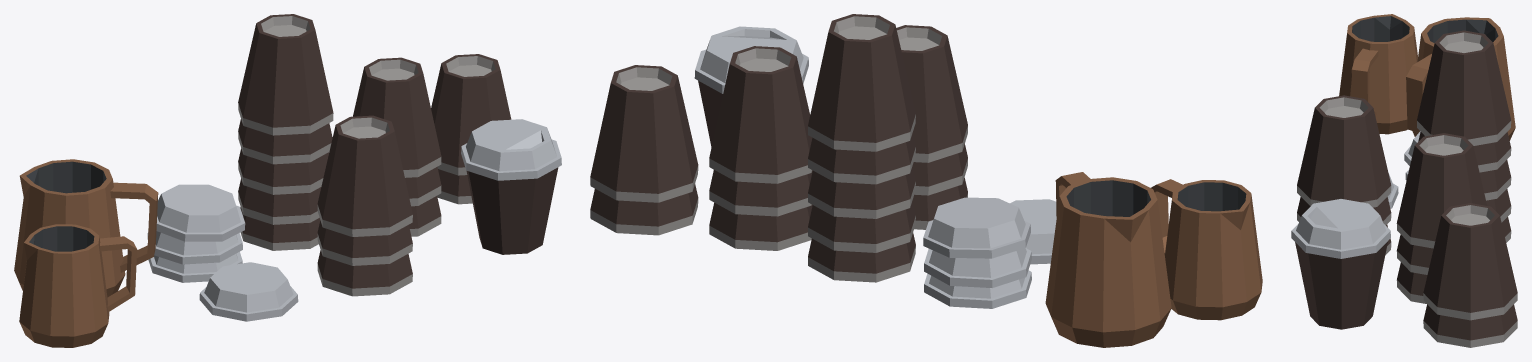
Rendered from SM_Prop_Cafe_Machine_Cup_Set_01.obj.
The picture shows the model from 3 angles, left to right: view 1: azimuth 30°, elevation 25°; view 2: azimuth 150°, elevation 25°; view 3: azimuth 270°, elevation 25°; orthographic projection. The views are drawn at different scales.
Visible parts, largest first — view 1: SM_Prop_Cafe_Machine_Cup_Set_01_0; view 2: SM_Prop_Cafe_Machine_Cup_Set_01_0; view 3: SM_Prop_Cafe_Machine_Cup_Set_01_0.
Part boxes in pixels (bbox=[...]): SM_Prop_Cafe_Machine_Cup_Set_01_0: bbox=[14, 14, 561, 347]; SM_Prop_Cafe_Machine_Cup_Set_01_0: bbox=[590, 14, 1262, 347]; SM_Prop_Cafe_Machine_Cup_Set_01_0: bbox=[1291, 14, 1517, 347].
Bounding box in the file's own units: 0.6026 × 0.2253 × 0.231.
1 material, 1 textured.
